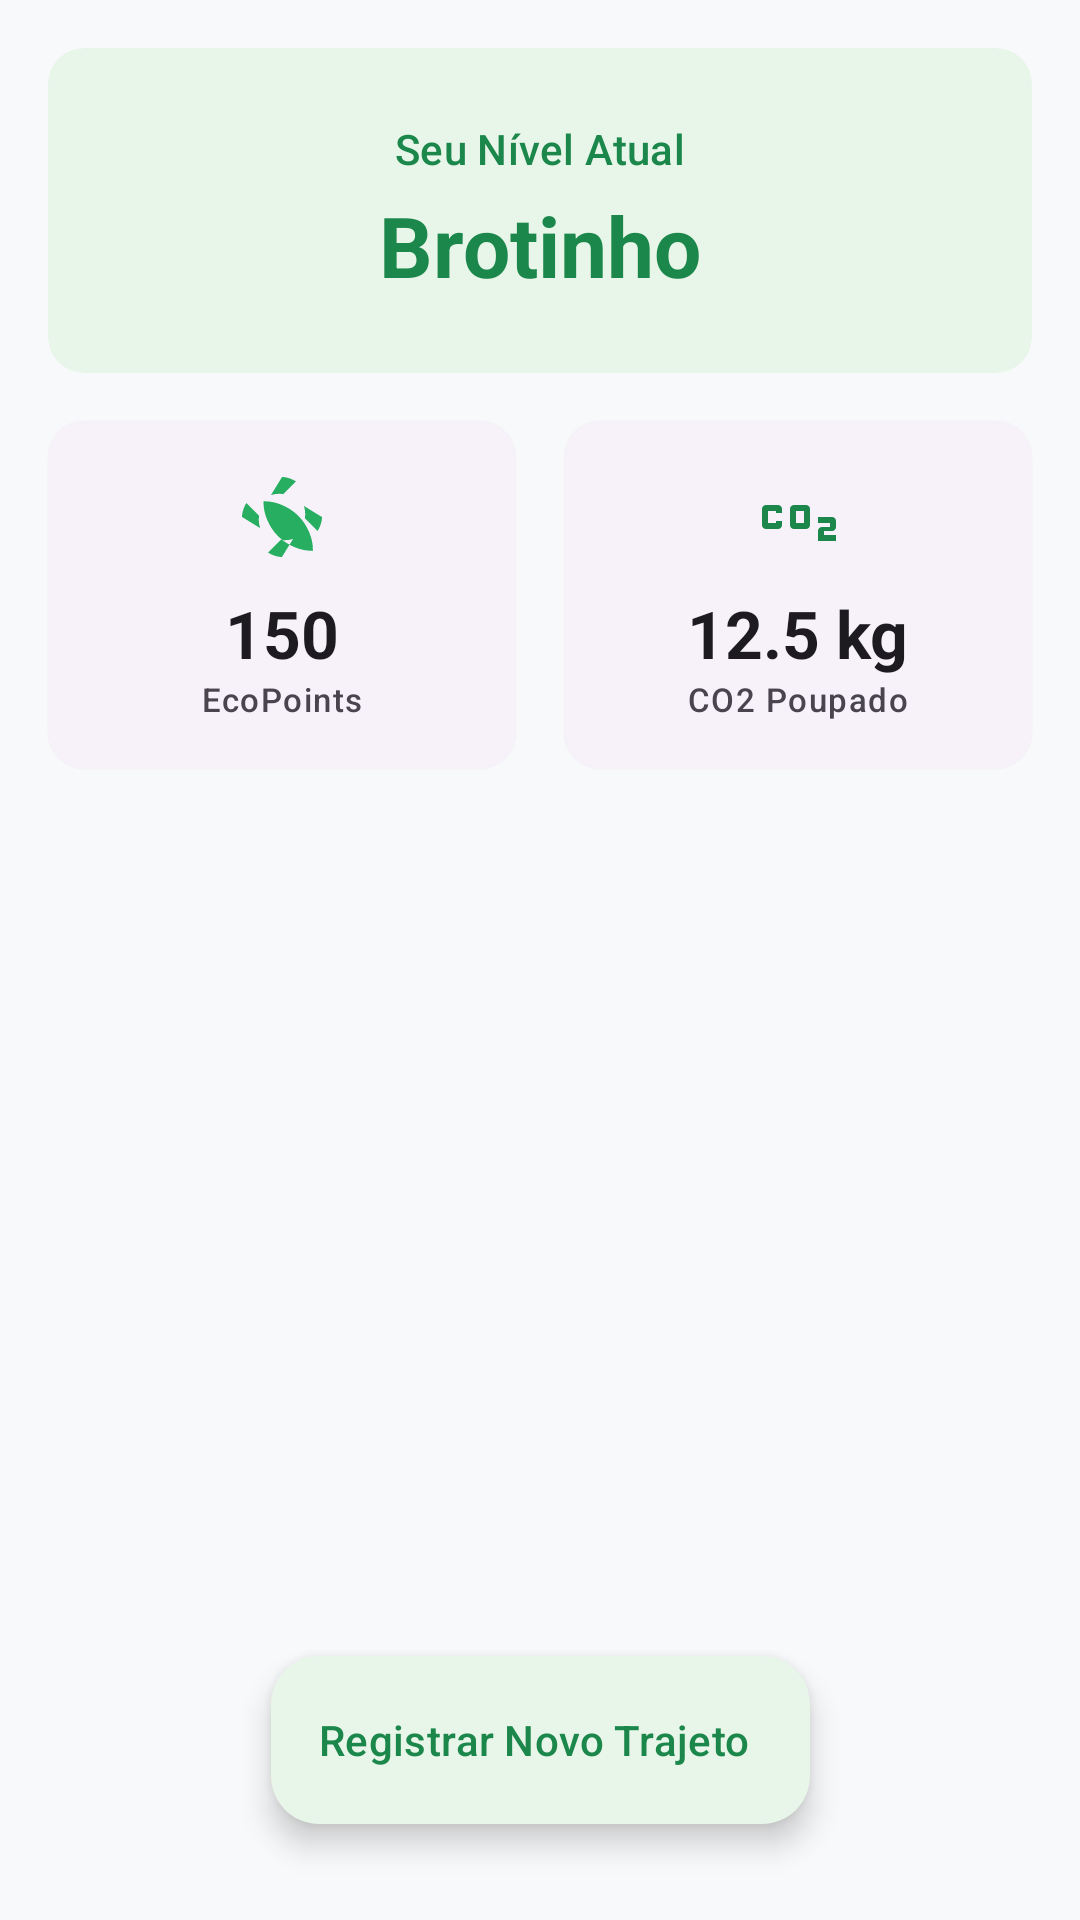

Named icons in this screenshot (1080x1920) and their bounding boxes, (x1, y1, x2, y2):
eco: (242, 477, 322, 557)
